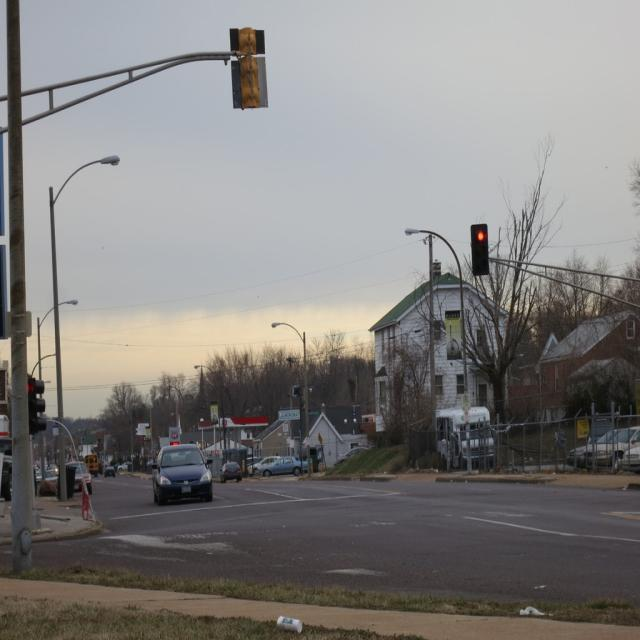traffic light: (472, 225, 489, 274)
